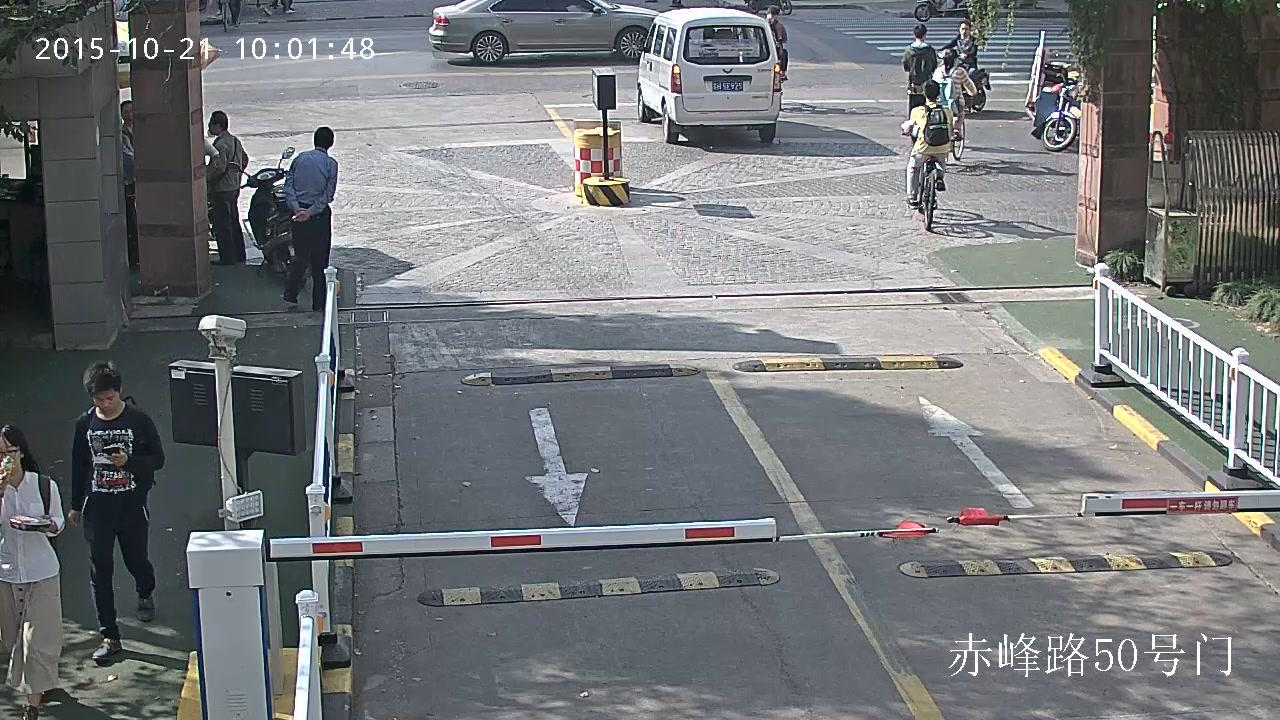face: (0, 433, 19, 472), (92, 389, 118, 413), (121, 104, 133, 124), (208, 117, 216, 133), (959, 22, 969, 34)
